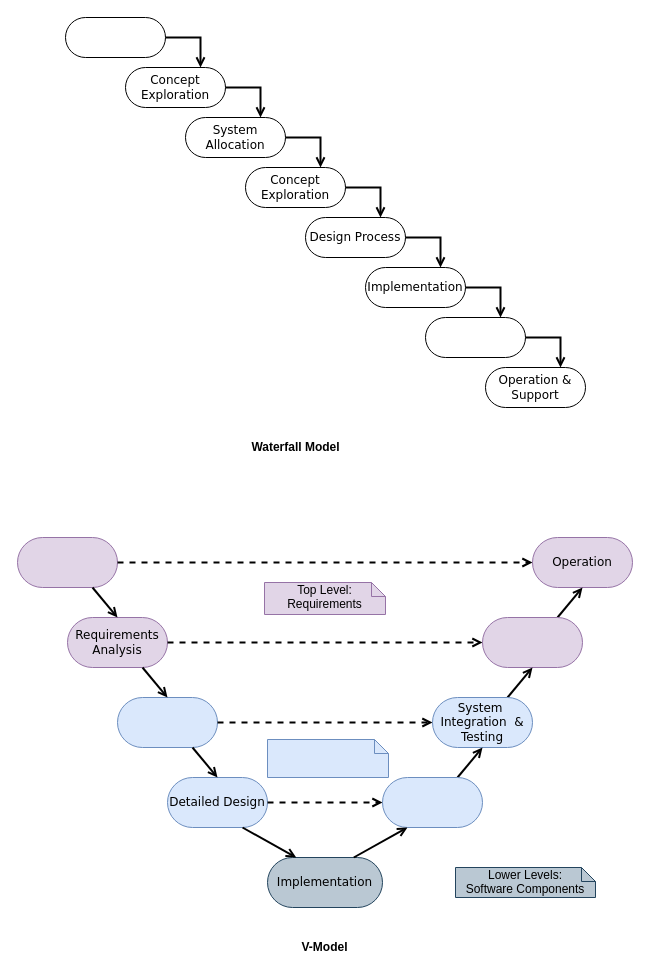
The diagram is 650 pixels wide and 975 high, and some of its shapes have lost their labels. The shapes that lost their labels are listed below. From the top down, each one's centre as x and y in pixels, then its label:
At point (115, 37): "Project Initiation".
At point (475, 337): "Verification & Validation".
At point (67, 562): "Software Requirements Elicitation".
At point (532, 642): "Client Acceptance".
At point (167, 722): "Preliminary Design".
At point (327, 758): "Middle Level: Architecture".
At point (432, 802): "Unit Testing".
